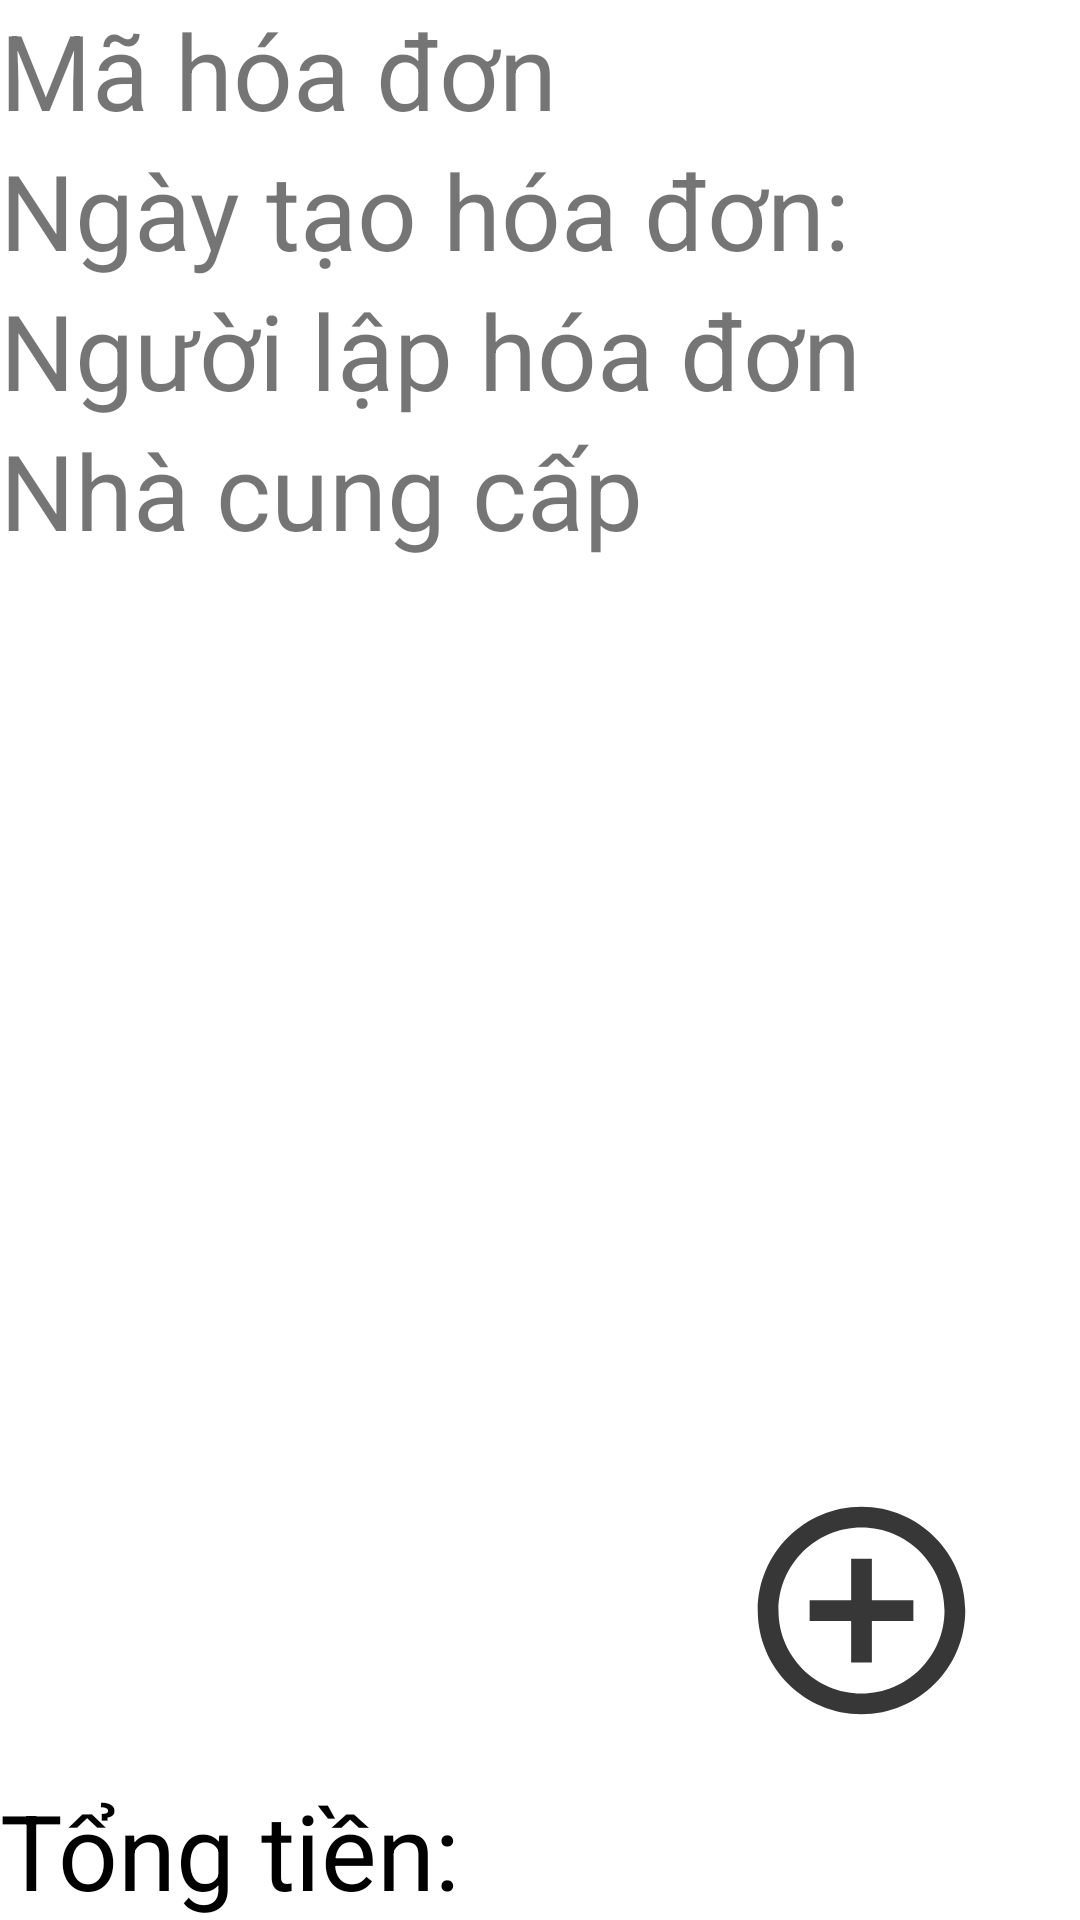

Icons on this 1080x1920 Android screen, each with the point to tap as (x=x, y=y):
plus: (x=861, y=1610)
